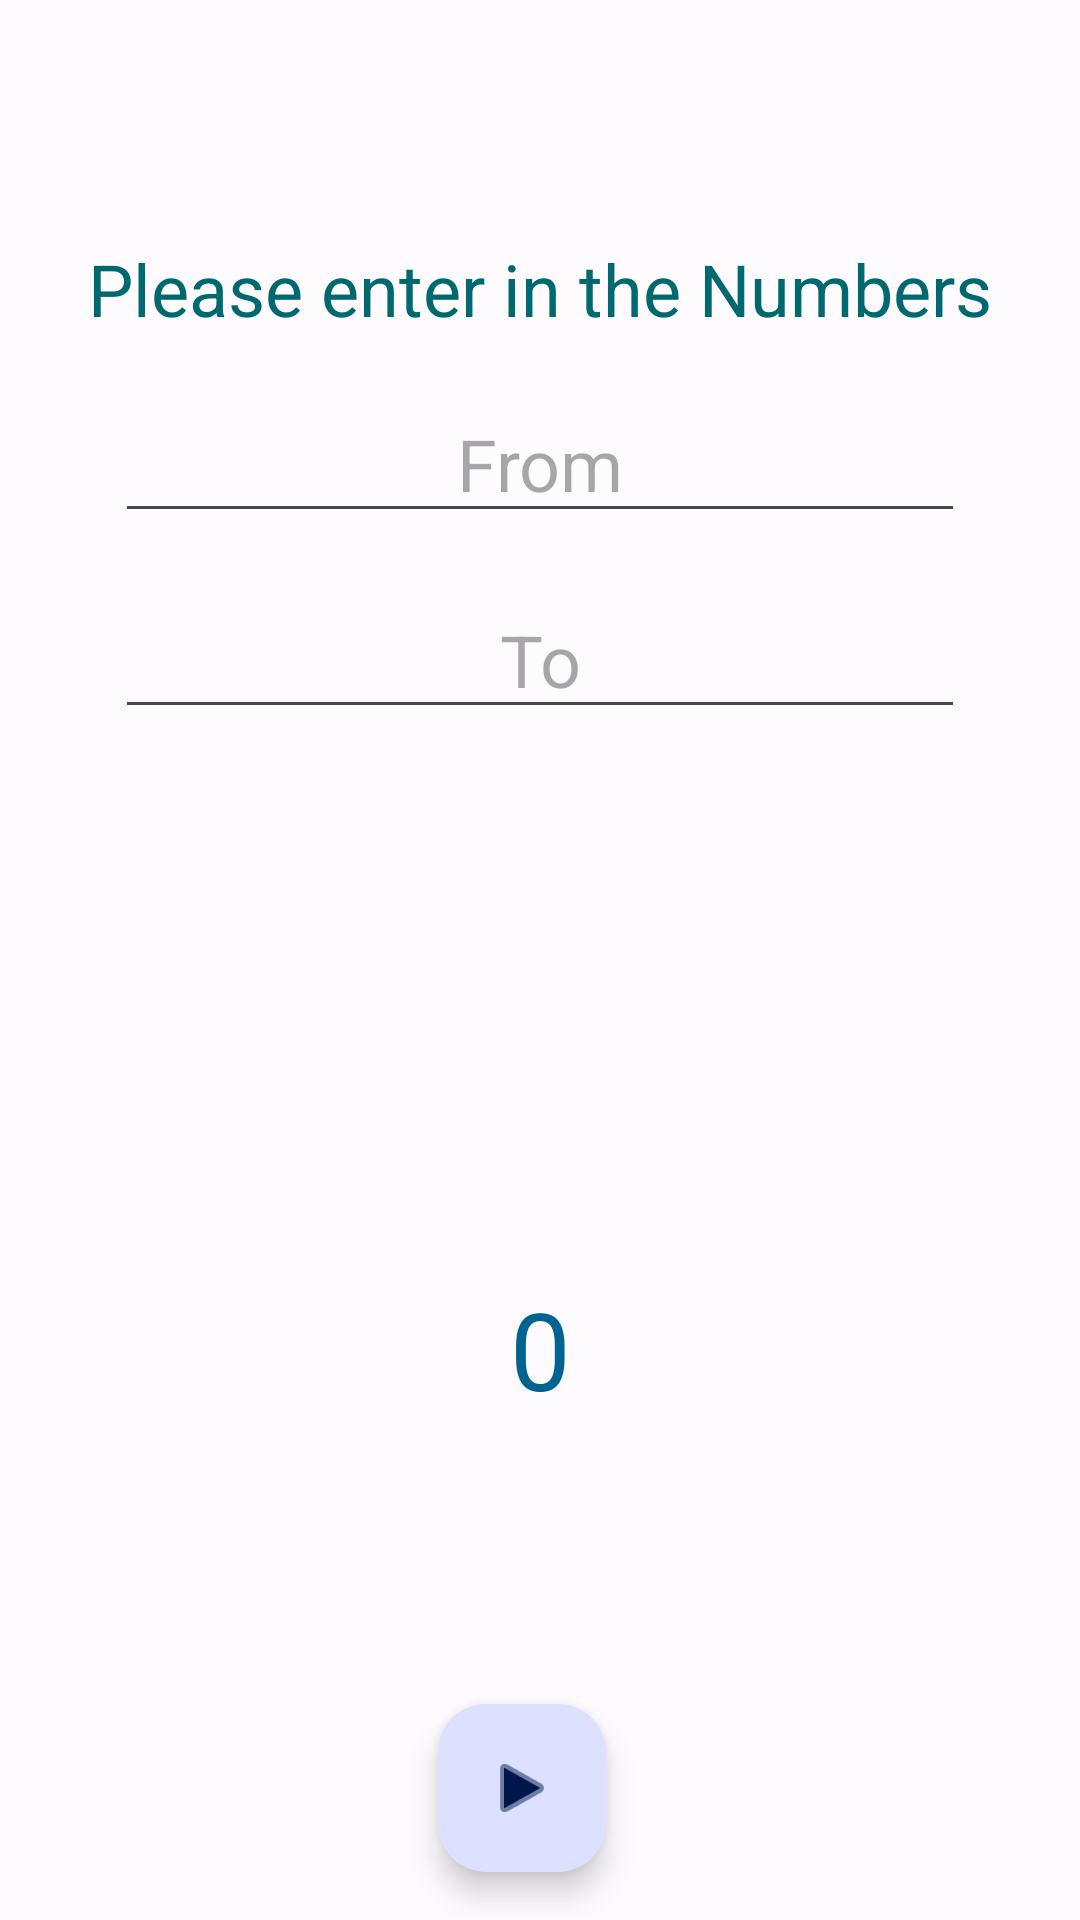

Icon bounding boxes for this 1080 x 1920 phone screenshot, format (left=x1, top=y1, right=x2, bottom=y2):
play: (left=438, top=1704, right=606, bottom=1872)
